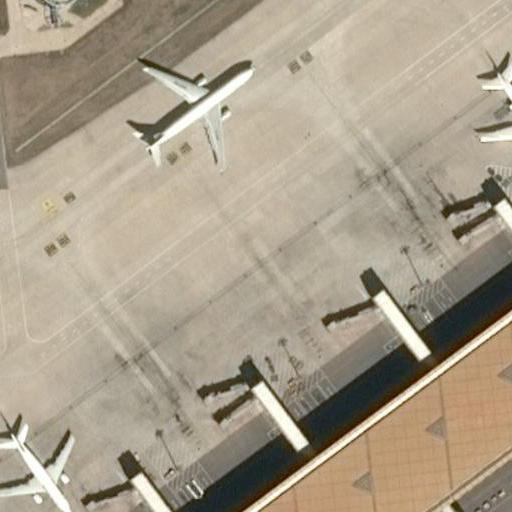Aircraft: (118, 41, 264, 168), (0, 403, 80, 512), (464, 47, 512, 173)
